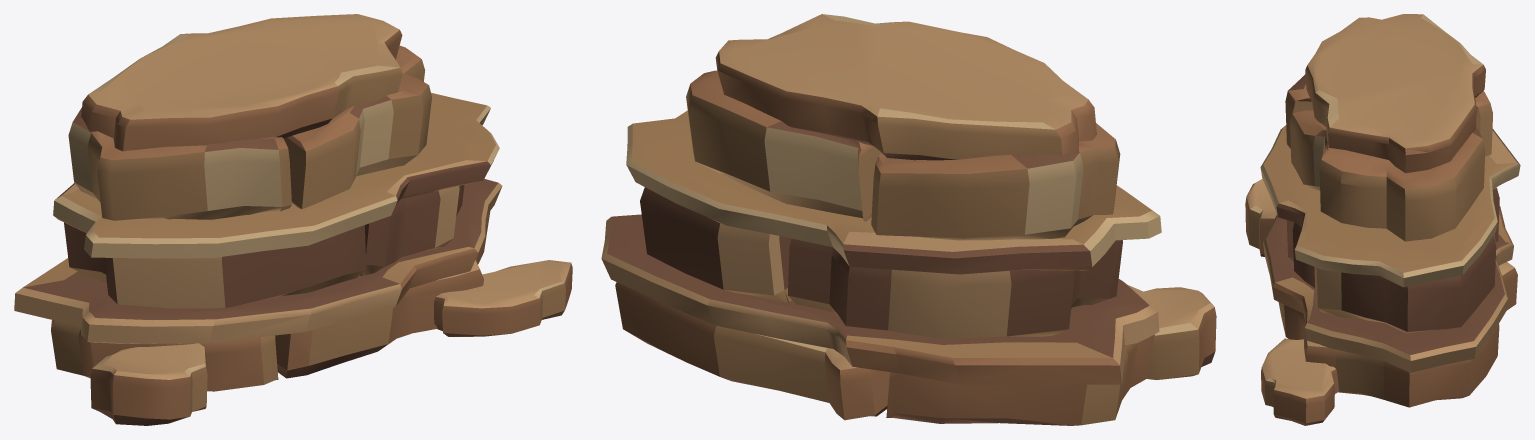
The model's file is fw_sandstone_bedded.hi.glb.
3 views of the same model, side by side, from view 1: azimuth 30°, elevation 25°; view 2: azimuth 150°, elevation 25°; view 3: azimuth 270°, elevation 25° (orthographic). The views are drawn at different scales.
Visible parts, largest first — view 1: body; view 2: body; view 3: body.
Boxes of the visible parts, left/top/right/bottom form: body: left=14, top=14, right=572, bottom=425; body: left=601, top=14, right=1216, bottom=425; body: left=1245, top=14, right=1520, bottom=425.
Size of the model in its own units: 2.32 by 1.22 by 1.26.
